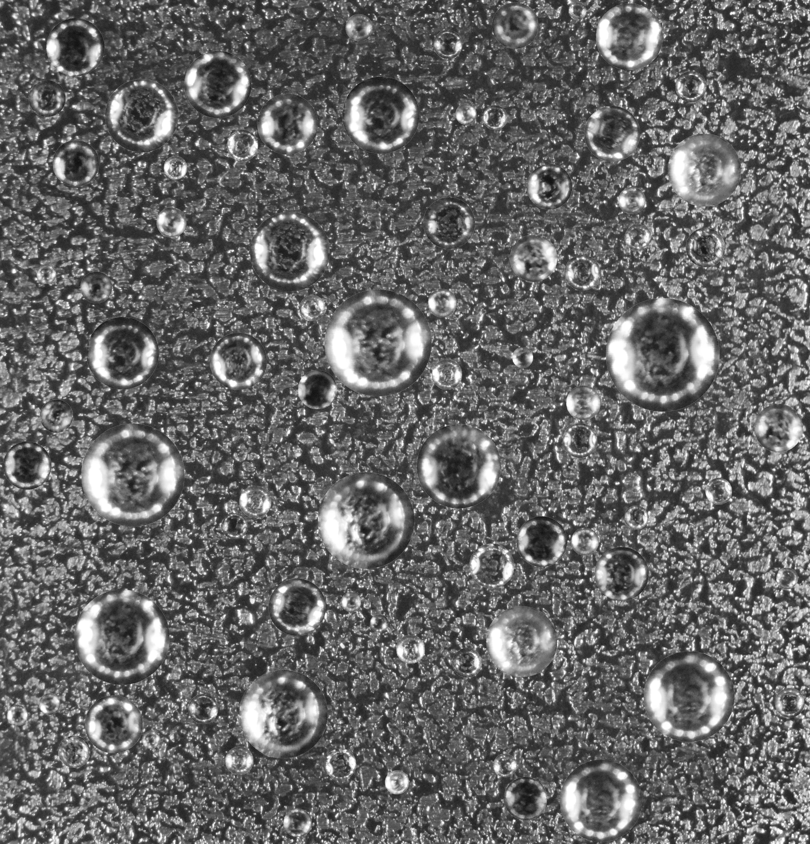Bubble: (606, 298, 719, 411), (324, 289, 431, 396), (81, 423, 184, 526), (317, 472, 414, 568), (74, 589, 169, 684), (643, 651, 734, 741), (239, 670, 327, 758), (416, 424, 500, 508), (560, 759, 642, 841), (250, 211, 329, 291), (342, 76, 419, 153), (105, 79, 178, 152), (668, 133, 740, 206), (86, 317, 158, 389), (486, 606, 557, 677), (184, 50, 251, 117), (596, 3, 662, 70), (257, 93, 317, 154), (46, 18, 104, 76), (84, 695, 142, 753), (209, 332, 266, 389), (268, 578, 325, 635), (584, 105, 640, 161), (594, 547, 648, 600), (423, 197, 474, 248), (516, 516, 567, 566), (754, 403, 802, 452), (3, 441, 51, 489), (510, 234, 557, 281), (492, 2, 538, 48), (52, 140, 98, 186), (526, 164, 572, 209), (469, 543, 514, 588), (504, 777, 547, 820), (686, 227, 725, 267), (298, 370, 337, 409), (28, 80, 65, 116), (564, 254, 600, 290), (562, 423, 597, 457), (566, 385, 600, 419), (39, 399, 72, 432), (239, 485, 271, 517), (226, 129, 258, 161), (58, 735, 90, 767), (324, 748, 356, 780), (80, 271, 111, 303), (675, 71, 706, 102), (431, 359, 462, 389), (156, 207, 186, 237), (188, 694, 218, 723), (452, 648, 481, 677), (433, 29, 462, 58), (775, 688, 804, 717), (428, 288, 456, 317), (283, 808, 311, 837), (225, 746, 253, 774), (396, 635, 424, 663), (571, 527, 598, 555), (618, 187, 645, 214), (624, 224, 651, 251), (345, 14, 372, 40), (705, 478, 732, 504), (299, 295, 325, 321), (221, 513, 247, 539), (482, 105, 507, 129), (624, 505, 648, 529), (493, 753, 516, 777), (163, 156, 187, 179), (385, 770, 408, 794), (776, 567, 797, 589), (38, 693, 60, 714), (455, 103, 476, 124), (512, 347, 533, 367), (6, 705, 27, 725), (36, 264, 56, 283), (341, 592, 360, 611), (568, 1, 586, 19), (370, 614, 388, 632), (142, 731, 159, 748), (44, 821, 54, 831)
